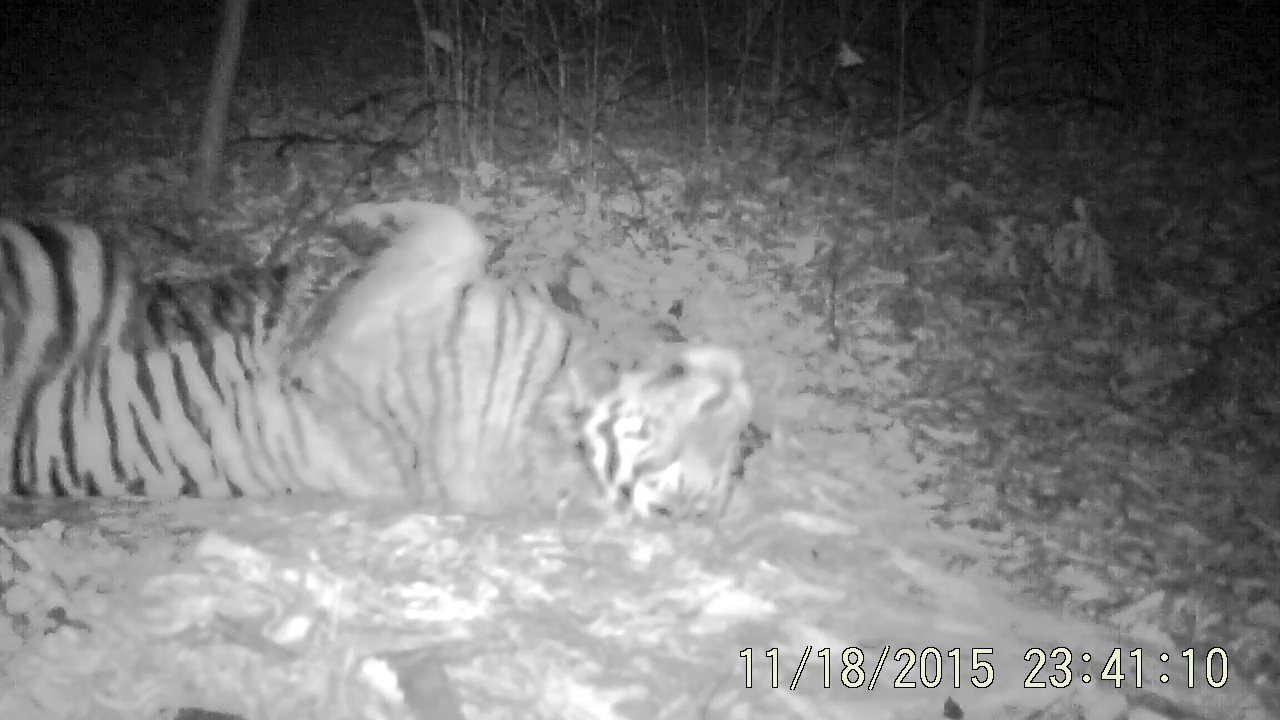Tiger: (4, 75, 902, 586)
